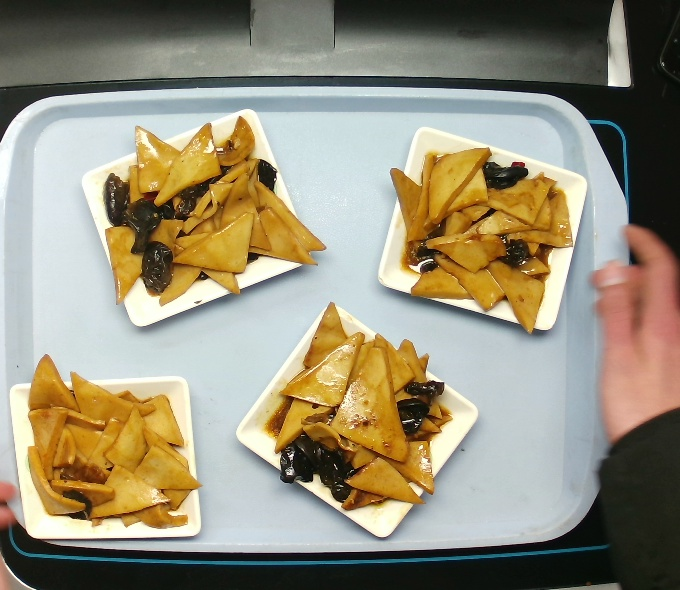wcq-QianYeDouFuChaoMuEr: (94, 113, 329, 312), (269, 297, 460, 517), (384, 139, 579, 342), (21, 346, 207, 536)
